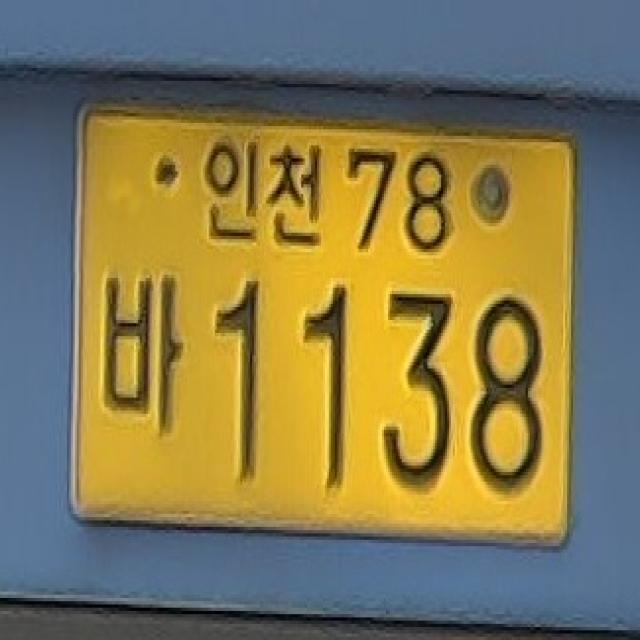plat: (69, 99, 578, 546)
